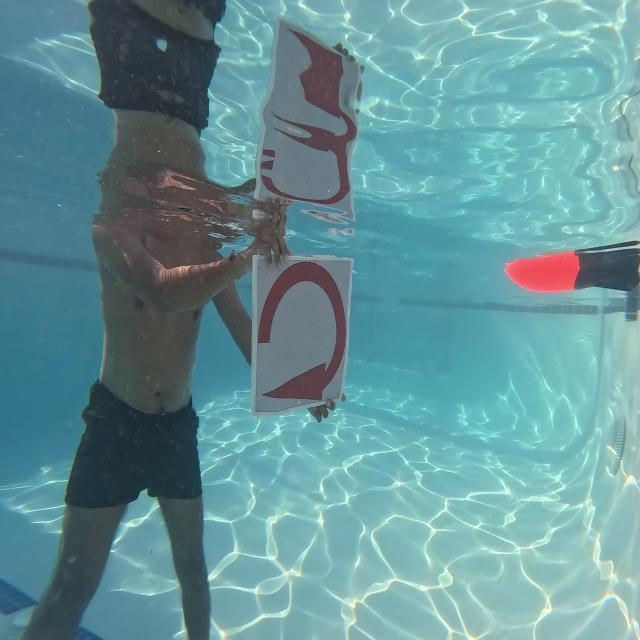red_side: (255, 254, 348, 412)
